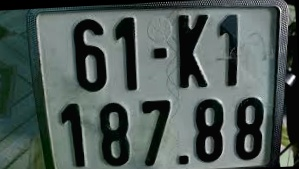Bien-so: (31, 0, 299, 169)
